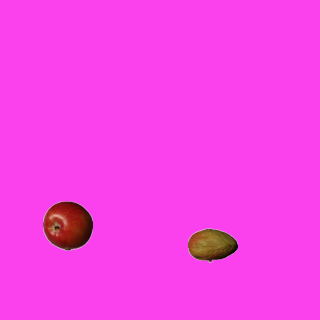Apple Braeburn: (42, 200, 92, 250)
Papaya: (187, 220, 237, 270)
